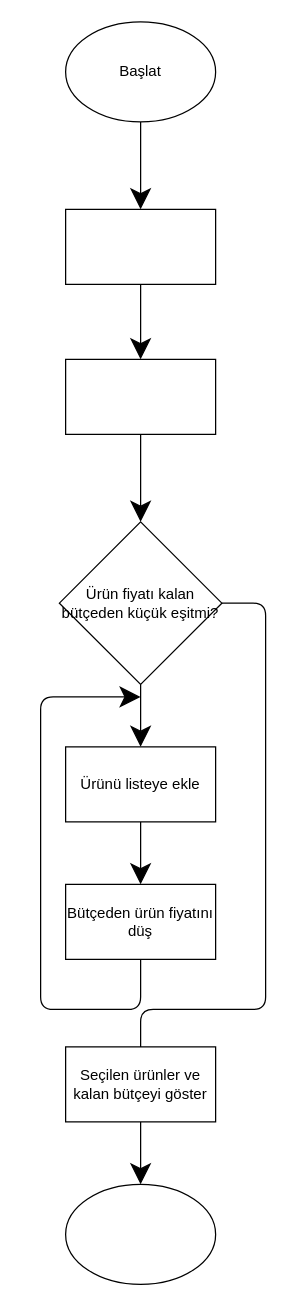
The diagram is 289 pixels wide and 1306 high, and some of its shapes have lost their labels. Here are the shapes that lost their labels. From the top down, the centre of each, then its label:
At point (140, 246): "Kullanıcıdan ürün listesi ve bütçe bilgilerini al".
At point (140, 396): "Ürünleri fiyatlarına göre sırala".
At point (140, 1233): "Bitir".
